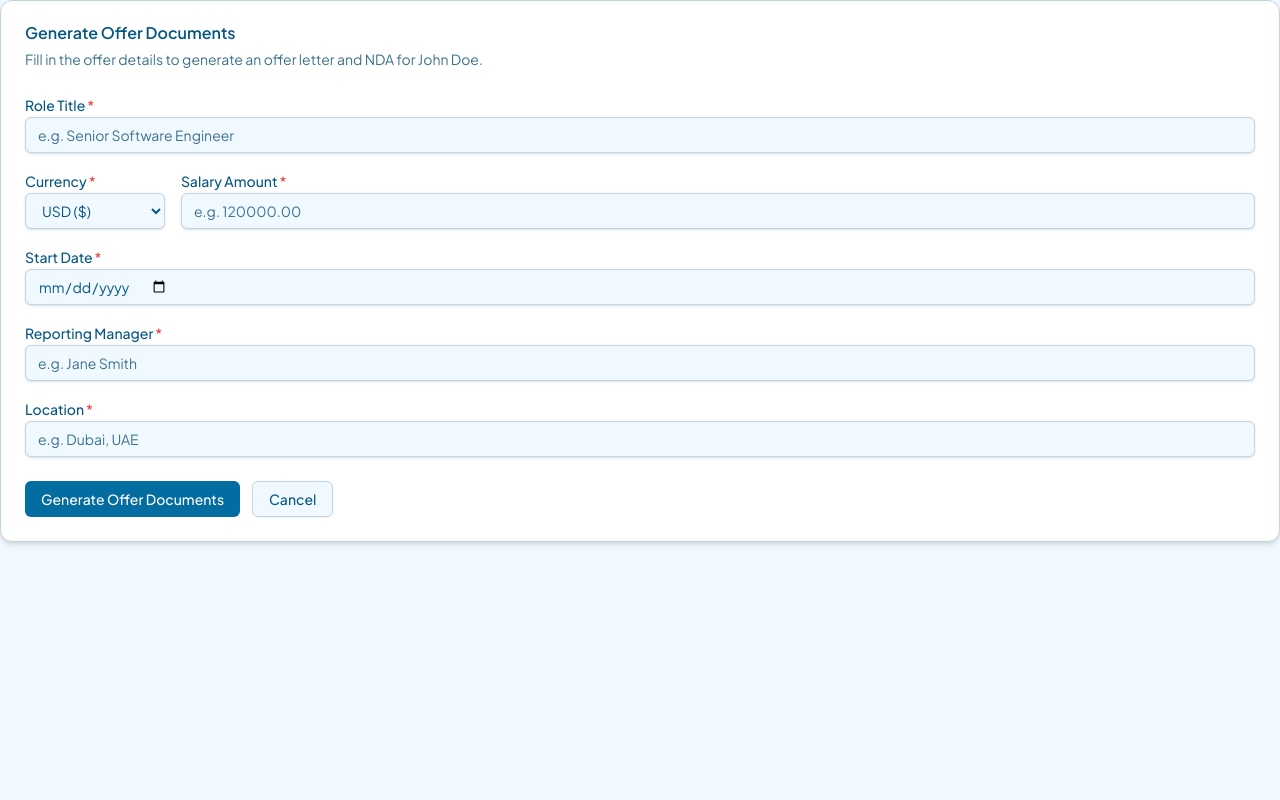
Test: OfferGenerationForm › Client-side Validation › shows error when salary is below minimum (0.01)
Type "0" into the number field labelled "Salary Amount*" at (718, 211), box [181,193,1255,229]
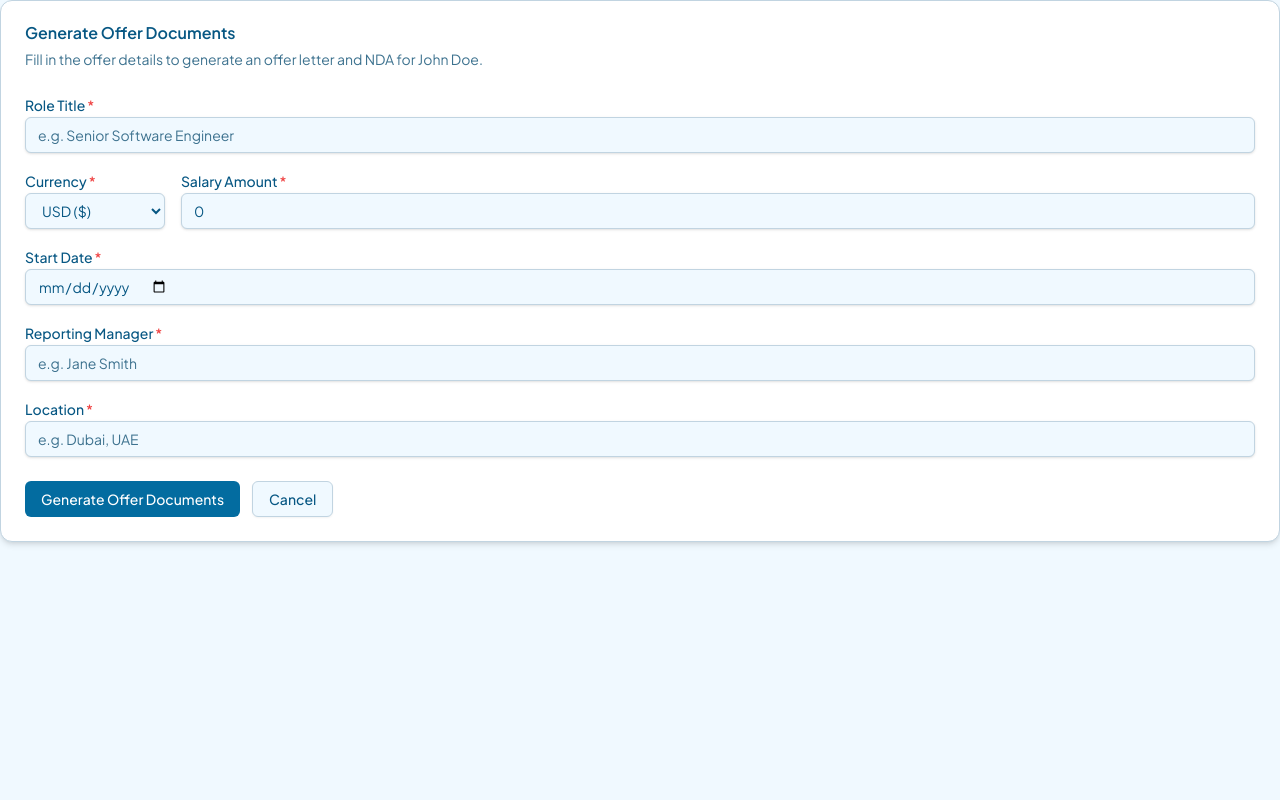
Leave the number field labelled "Salary Amount*", box [181,193,1255,229]
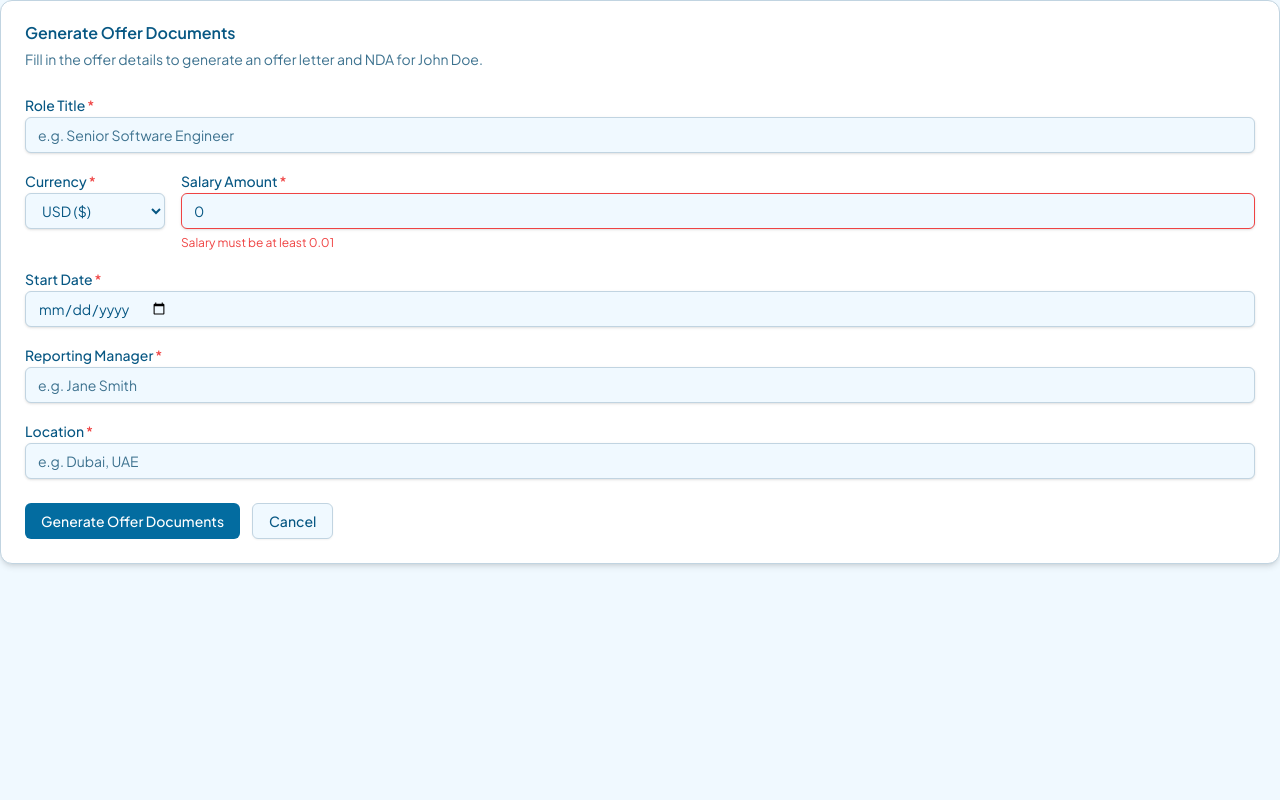
Expected: the text "Salary must be at least 0.01" is shown, [181,235,334,250]
